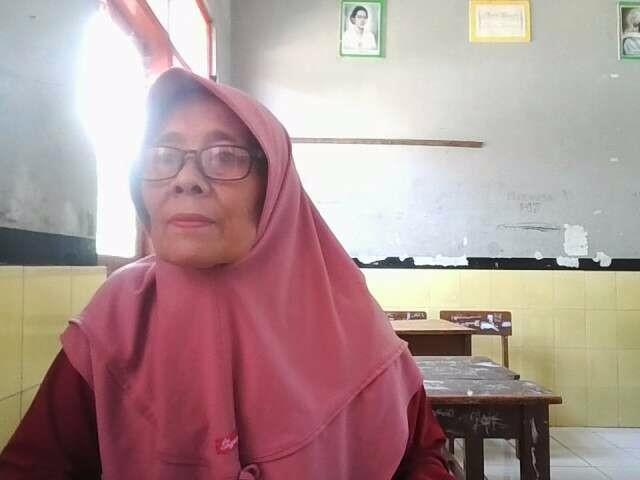cheating: (6, 63, 469, 480)
